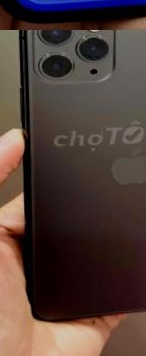scratch: (77, 202, 99, 229)
